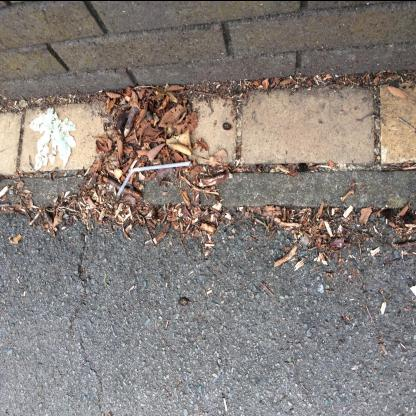plastik: (116, 160, 192, 196)
